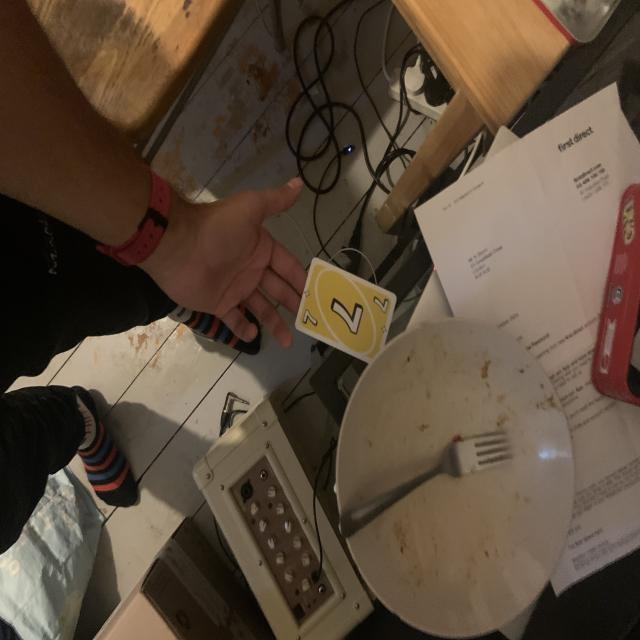lyellow-7: (300, 300, 325, 336)
